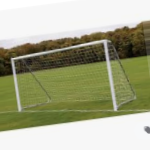goals: (9, 38, 141, 112)
